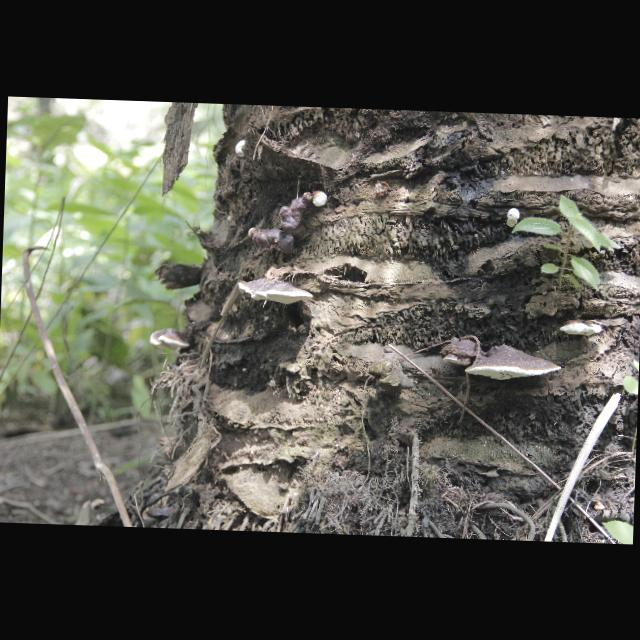ganoderma: (464, 343, 562, 383), (256, 191, 313, 257), (238, 277, 314, 307), (439, 337, 480, 367), (150, 329, 191, 351), (560, 319, 603, 337)
primordium: (507, 209, 521, 229), (313, 191, 328, 208), (236, 140, 248, 158), (249, 228, 257, 240)
